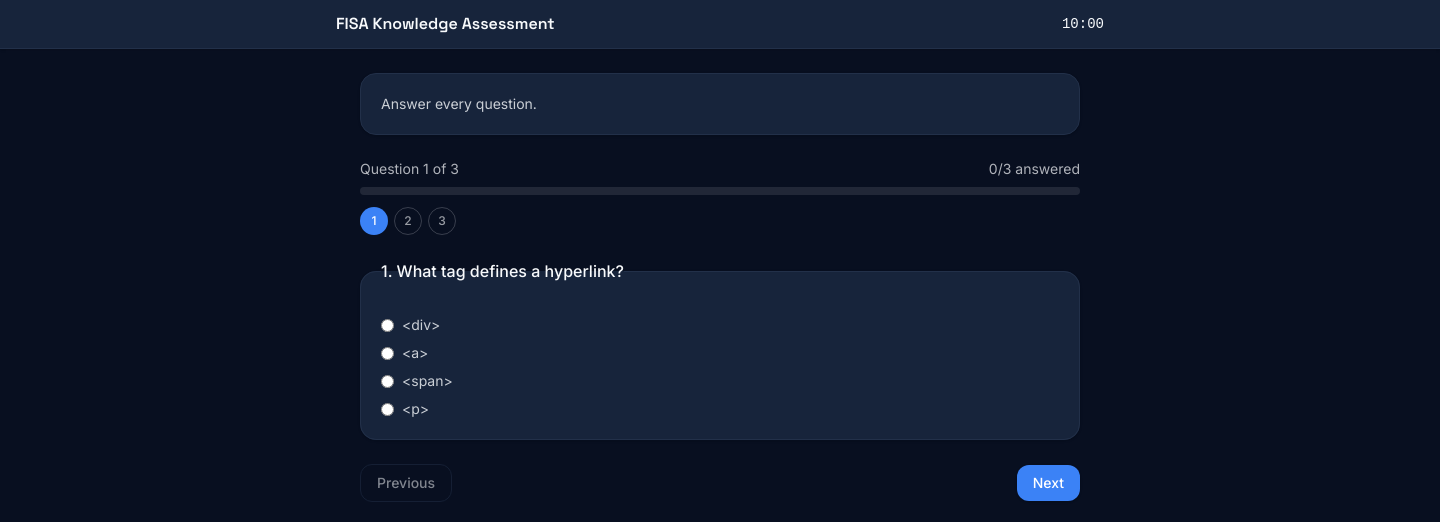
Test case: McqExamPage — one-question-at-a-time navigation and progress › Next advances to the next question; Previous is disabled on the first question
Expected: the text "Question 1 of 3" is shown, [360, 159, 459, 179]
Expected: the button "Previous" is disabled, [360, 464, 452, 502]
Click the button "Next". click: [1048, 483]
box: [1017, 465, 1080, 501]
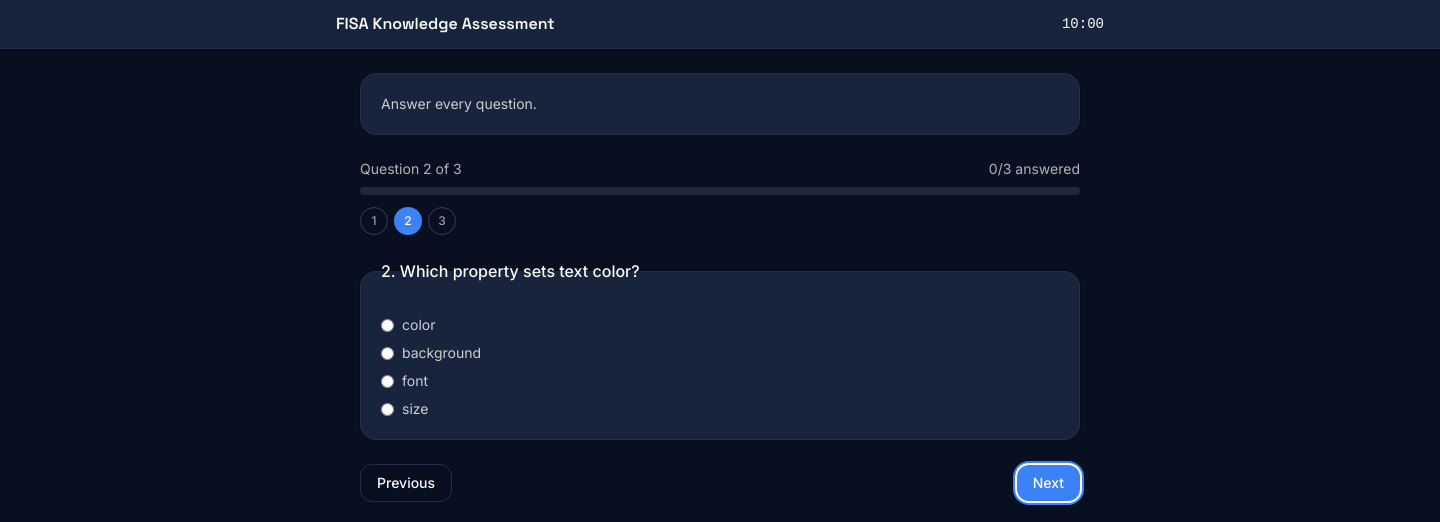
Now the text "Question 2 of 3" is shown, box [360, 159, 462, 179]
Now the text "2. Which property sets text color?" is shown, box [381, 259, 640, 283]
